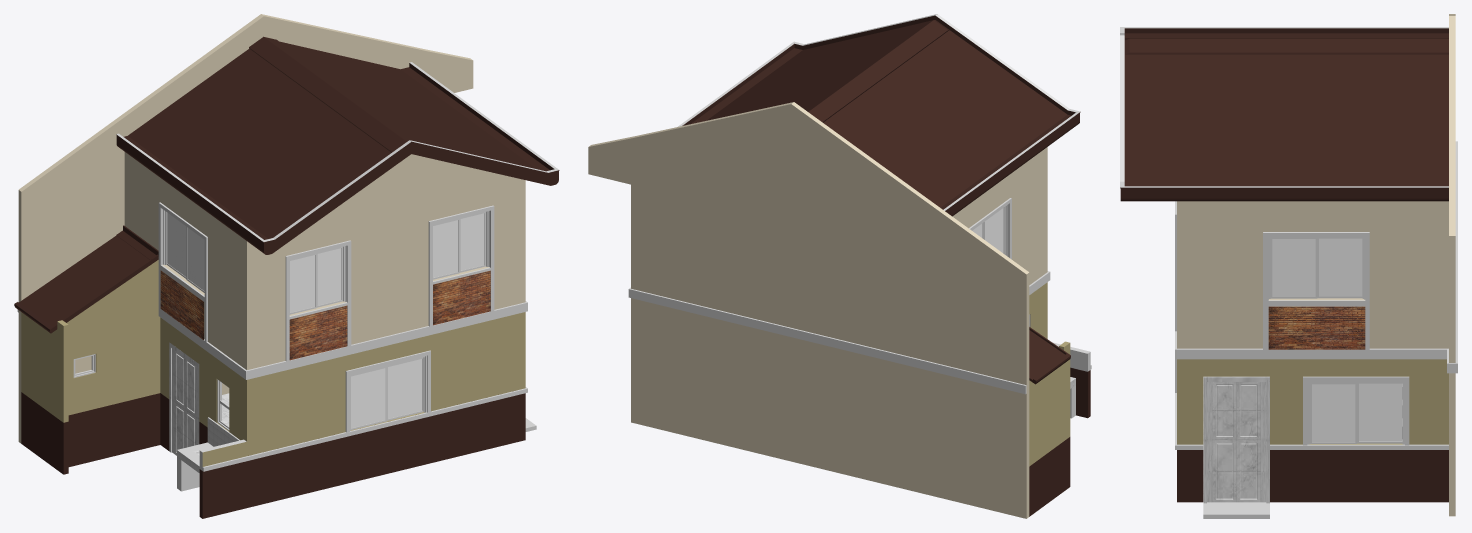
Rendered from jasmine_default.glb.
3 views of the same model, side by side, from view 1: azimuth 30°, elevation 25°; view 2: azimuth 150°, elevation 25°; view 3: azimuth 270°, elevation 25° (orthographic). The views are drawn at different scales.
Parts seen in each view (by area): view 1: Cube.039; view 2: Cube.039; view 3: Cube.039.
Part boxes in pixels (x1,y1,x2,y2): Cube.039: (14,14,559,518); Cube.039: (588,14,1091,518); Cube.039: (1120,14,1457,518).
Size of the model in its own units: 8.38 by 6.5 by 4.8.
Materials: 16 (3 with a texture image).
